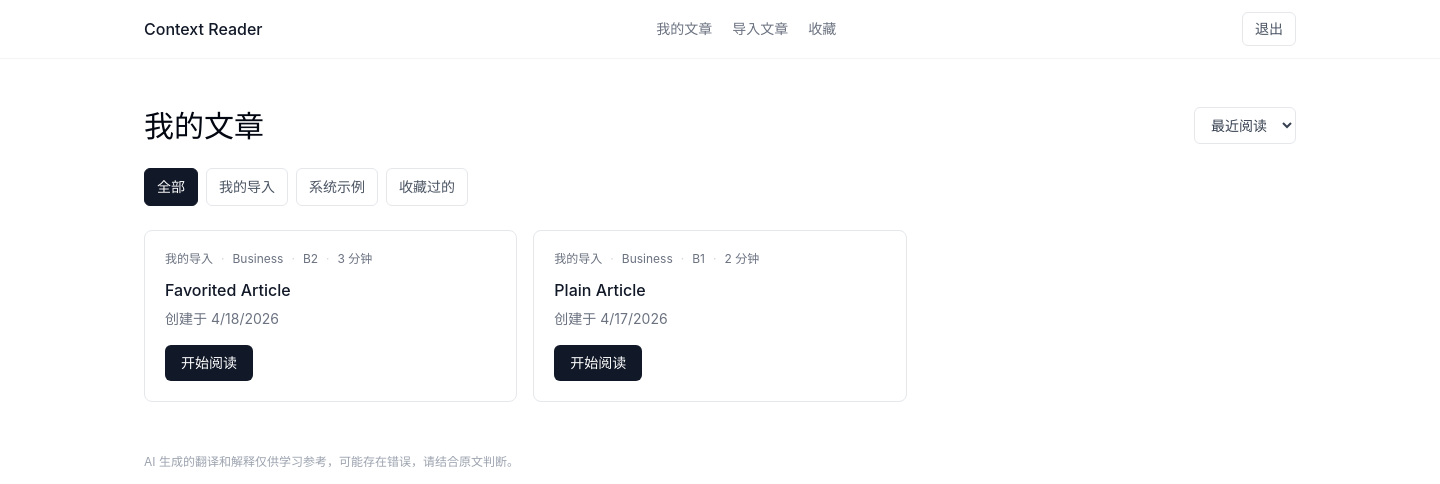
Test: ArticleListPage › filters articles to backend favorites when 收藏过的 is selected
Expected: the heading "Favorited Article" is shown, 165,280 -> 291,300
Expected: the heading "Plain Article" is shown, 554,280 -> 646,300
Click the button "收藏过的": (427, 187) 386,168 -> 468,206
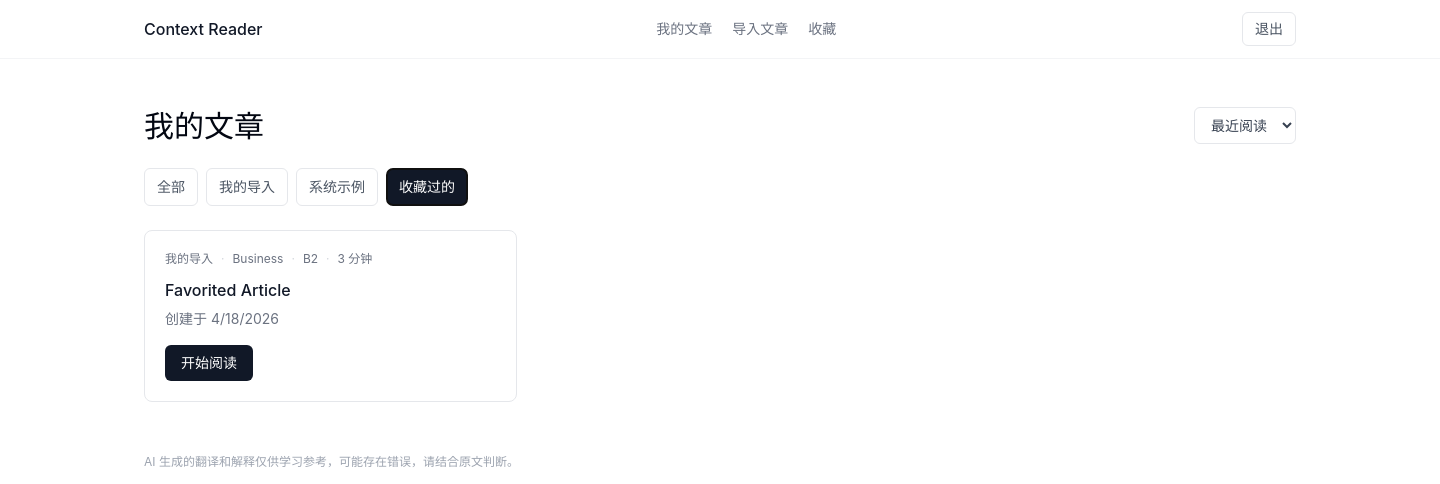
Expected: the heading "Favorited Article" is shown, 165,280 -> 291,300
Result: the heading "Plain Article" is gone
